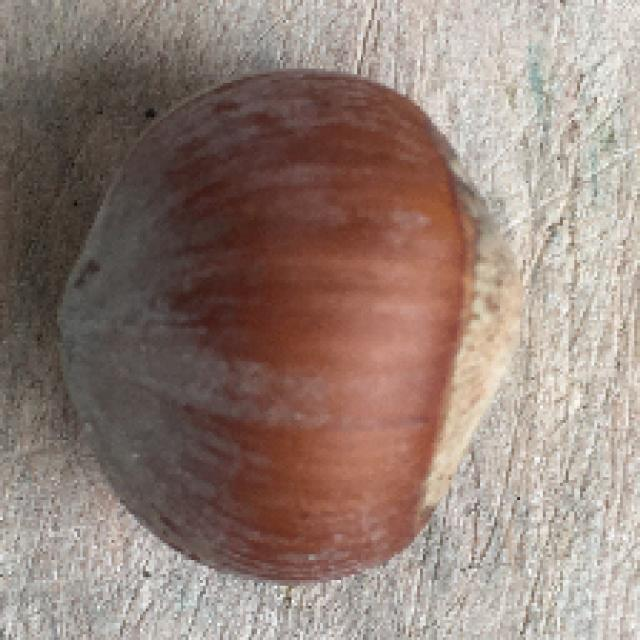QualityHazelnut: (57, 71, 524, 588)
